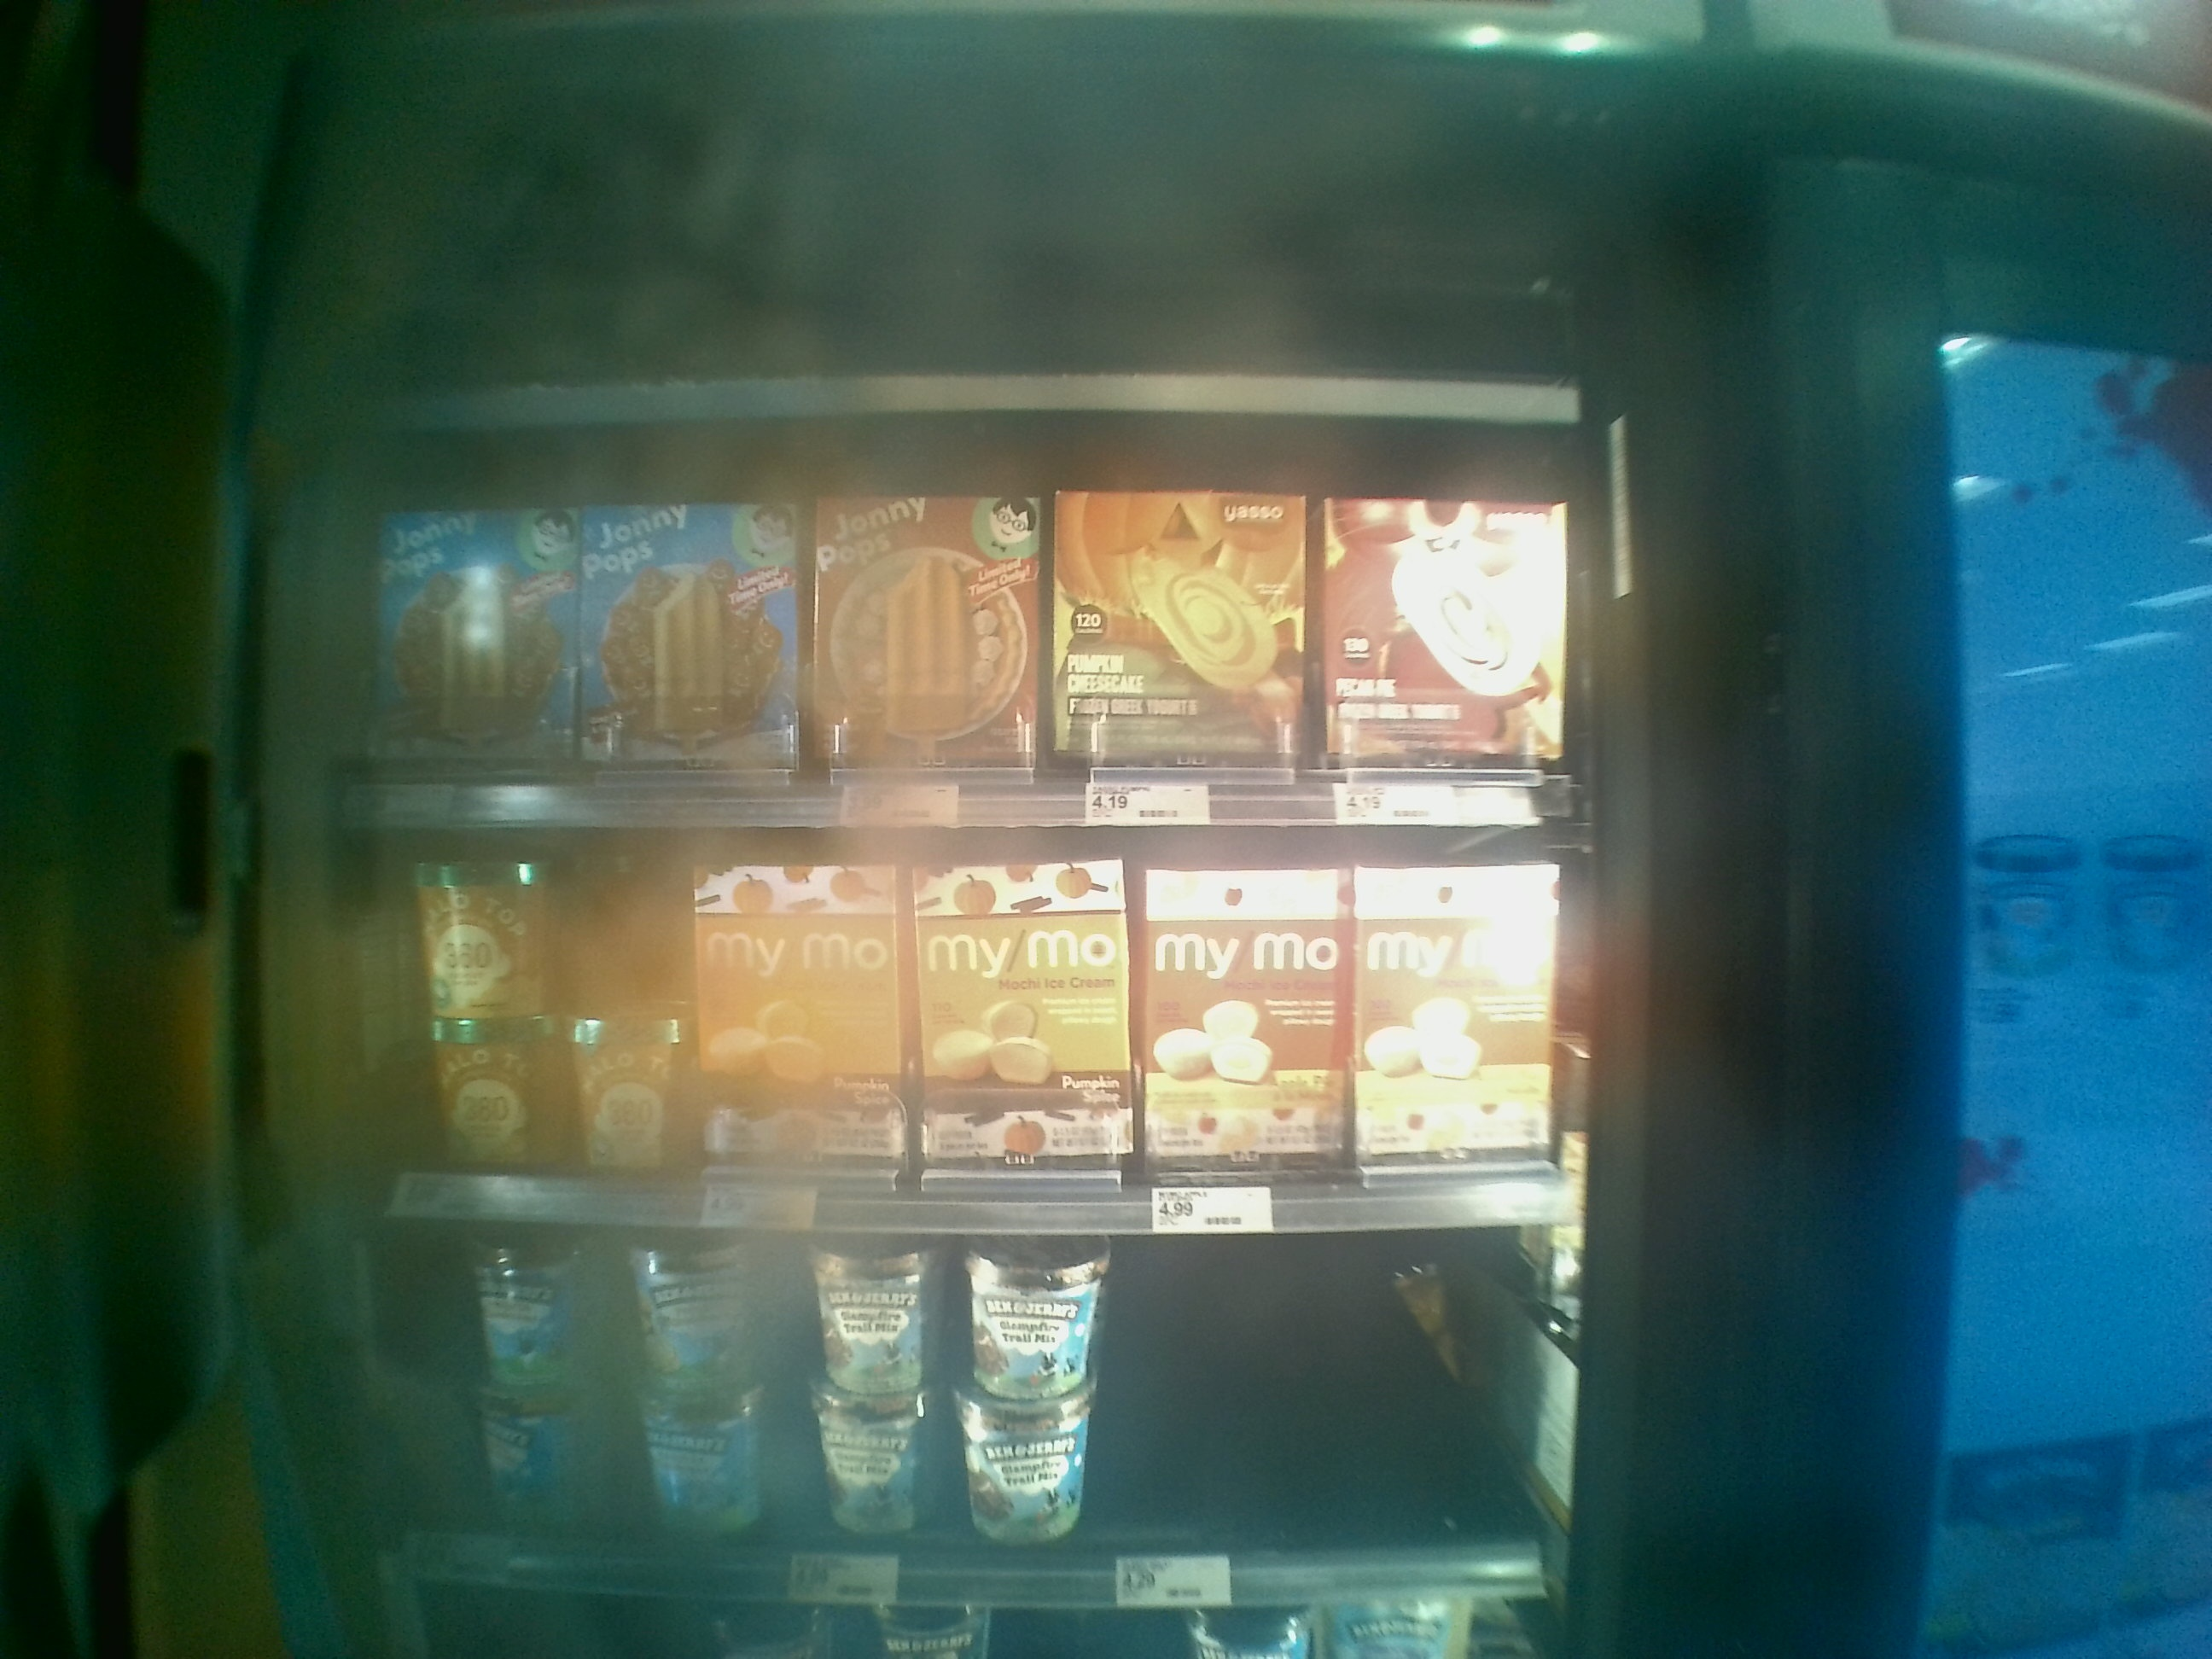shelf: (374, 788, 1555, 1213), (347, 448, 1566, 816), (380, 1192, 1540, 1575)
